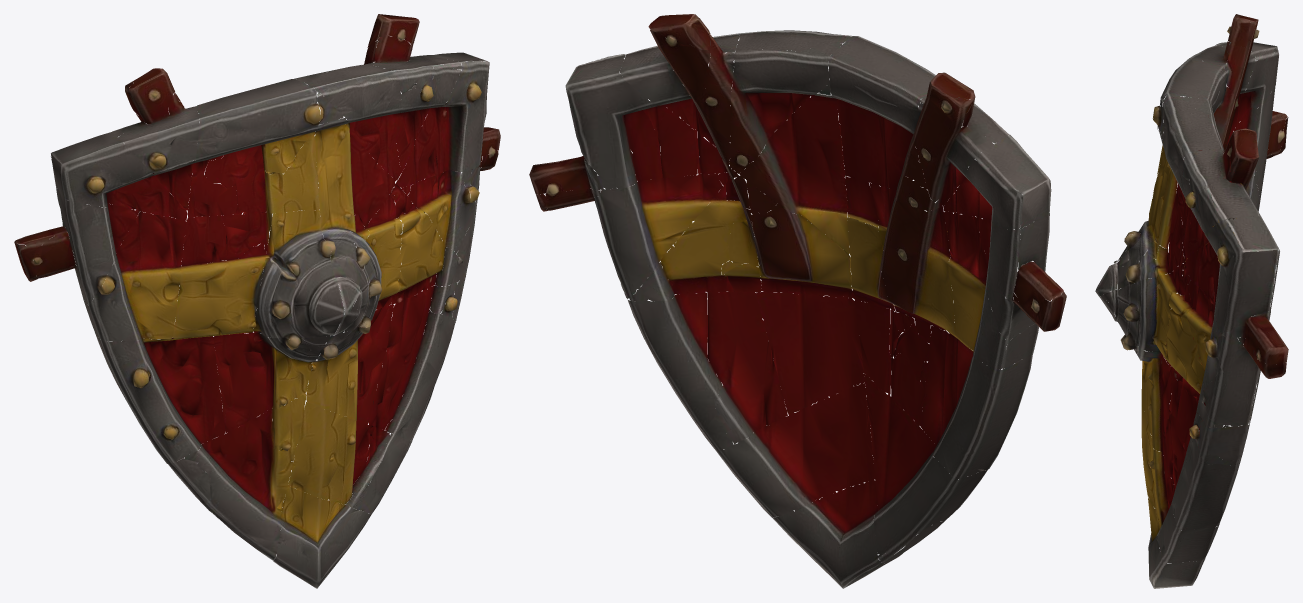
Rendered from escudo-tanque490.glb.
3 renders of one model, left to right at view 1: azimuth 30°, elevation 25°; view 2: azimuth 150°, elevation 25°; view 3: azimuth 270°, elevation 25°, orthographic. The views are drawn at different scales.
Parts seen in each view (by area): view 1: tripo_node_907f3520-8874-41de-abc0-1f183550e002; view 2: tripo_node_907f3520-8874-41de-abc0-1f183550e002; view 3: tripo_node_907f3520-8874-41de-abc0-1f183550e002.
Boxes of the visible parts, left/top/right/bottom form: tripo_node_907f3520-8874-41de-abc0-1f183550e002: left=14, top=14, right=500, bottom=588; tripo_node_907f3520-8874-41de-abc0-1f183550e002: left=529, top=14, right=1066, bottom=588; tripo_node_907f3520-8874-41de-abc0-1f183550e002: left=1095, top=14, right=1288, bottom=588.
Bounding box in the file's own units: 0.9783 × 1 × 0.3393.
Materials: 1 (1 with a texture image).
